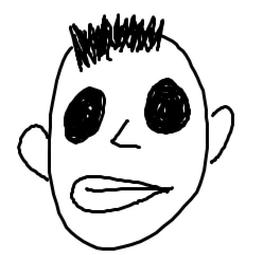ear: (14, 120, 53, 185), (203, 95, 236, 166)
eye: (139, 75, 195, 137), (60, 83, 109, 147)
open_mouth: (69, 168, 179, 219)
pointy_nose: (107, 117, 139, 155)
